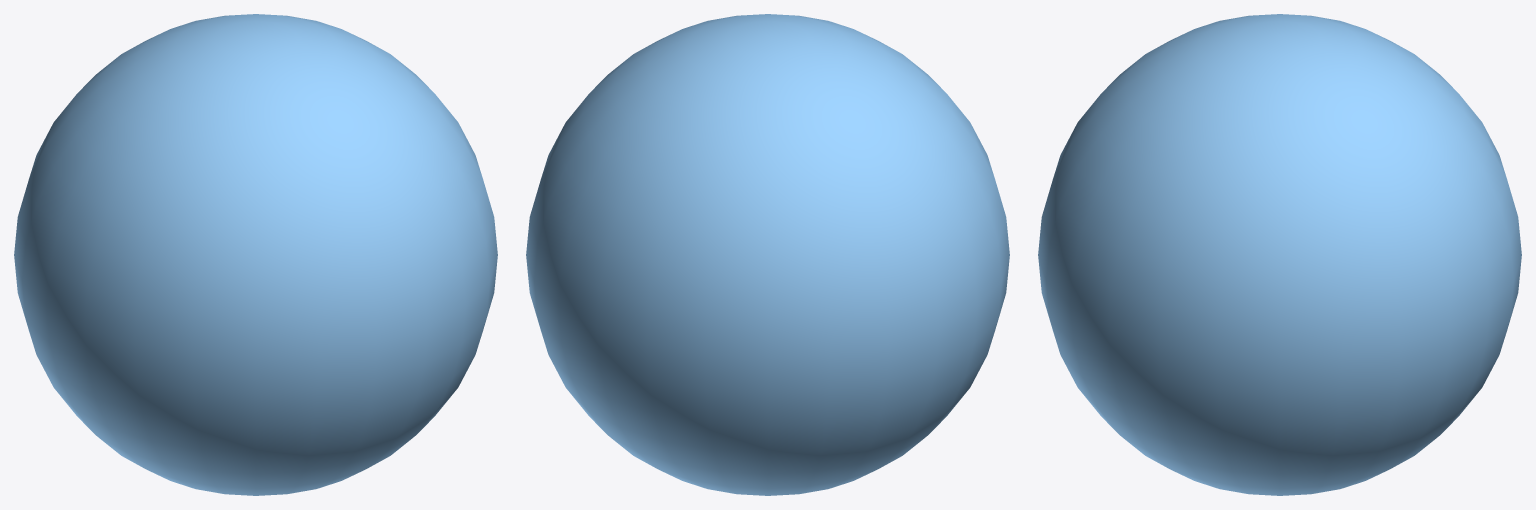
File: ball.glb
3 views of the same model, side by side, from view 1: azimuth 30°, elevation 25°; view 2: azimuth 150°, elevation 25°; view 3: azimuth 270°, elevation 25° (orthographic).
Size of the model in its own units: 0.9 by 0.9 by 0.9.
